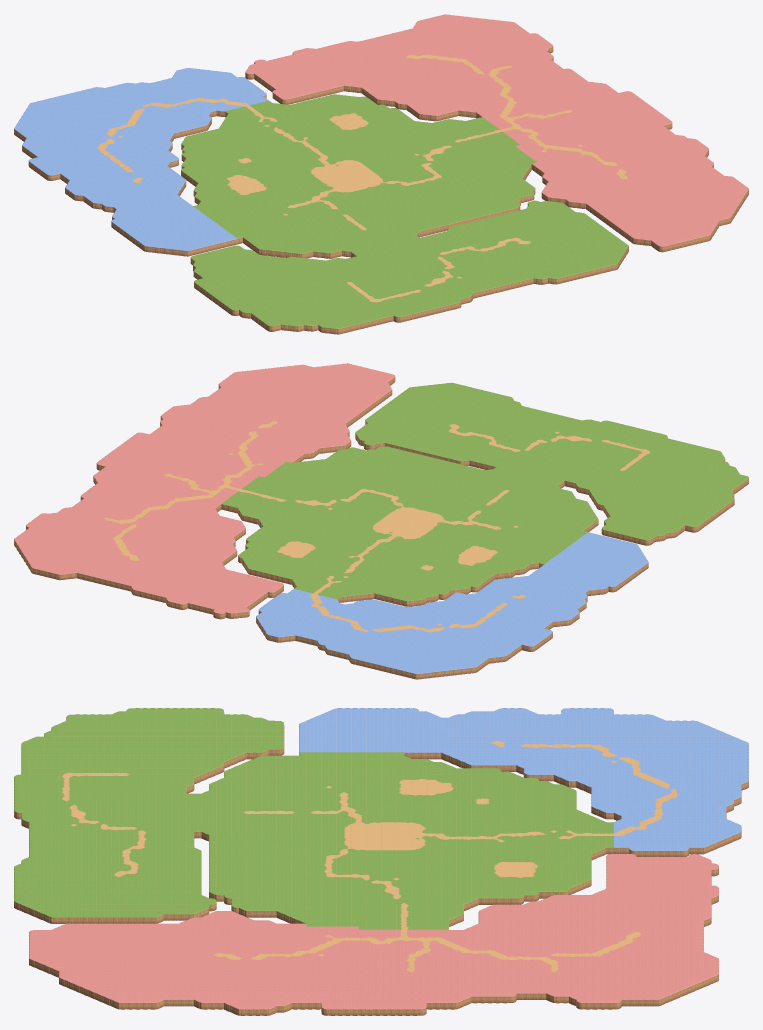
The model's file is Mesh_land01.fbx.
3 views of the same model, one above another, from view 1: azimuth 30°, elevation 25°; view 2: azimuth 150°, elevation 25°; view 3: azimuth 270°, elevation 25° (orthographic). The views are drawn at different scales.
Visible parts, largest first — view 1: Mesh_land01; view 2: Mesh_land01; view 3: Mesh_land01.
Part boxes in pixels (x1=…): Mesh_land01: x1=14, y1=14, x2=748, y2=334; Mesh_land01: x1=14, y1=363, x2=748, y2=679; Mesh_land01: x1=14, y1=708, x2=748, y2=1015.
Size of the model in its own units: 30933 by 325 by 31909.
